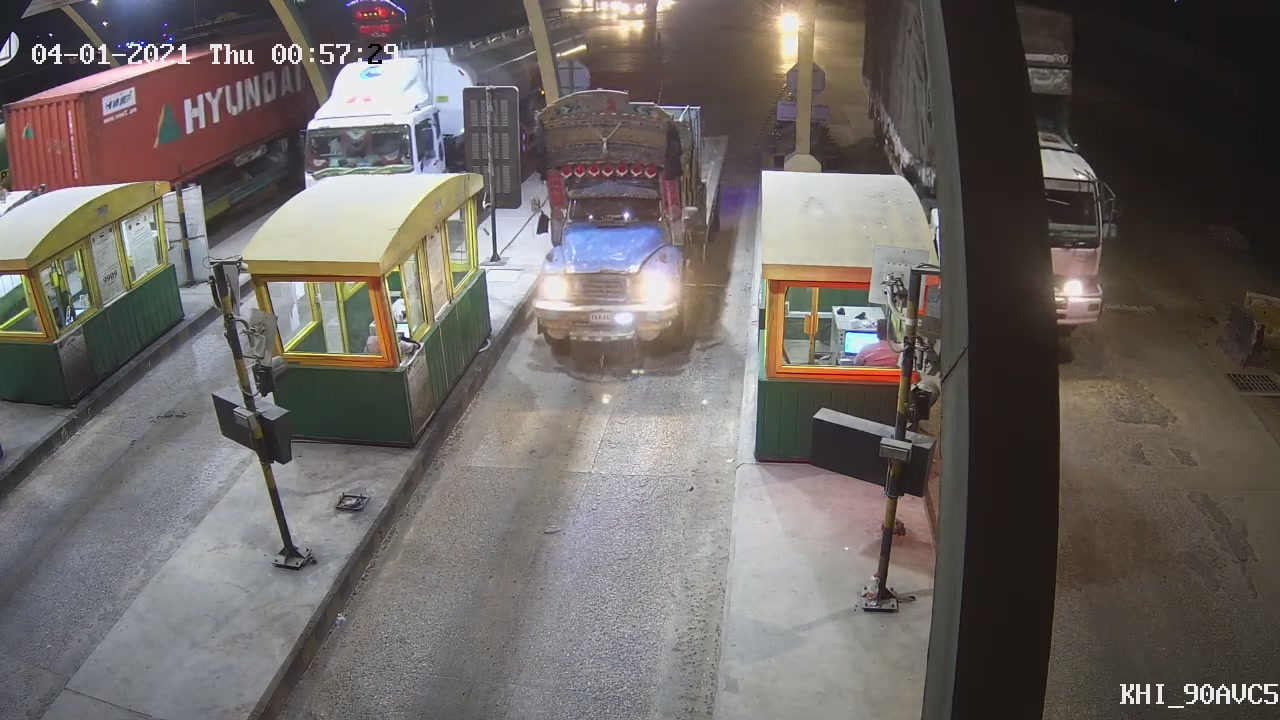F5: (502, 83, 748, 383)
